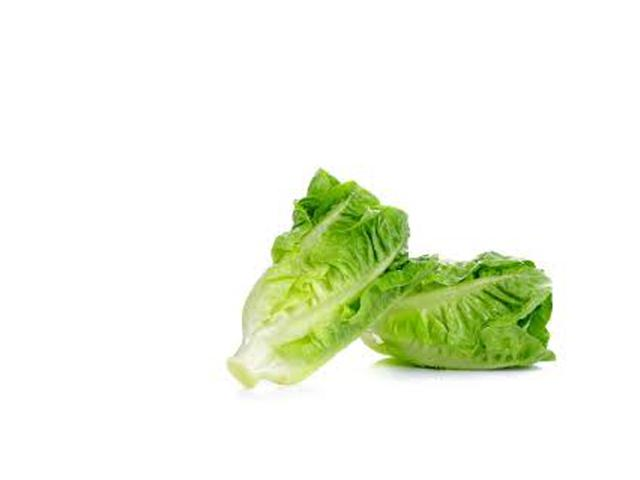lettuce: (222, 177, 432, 403)
